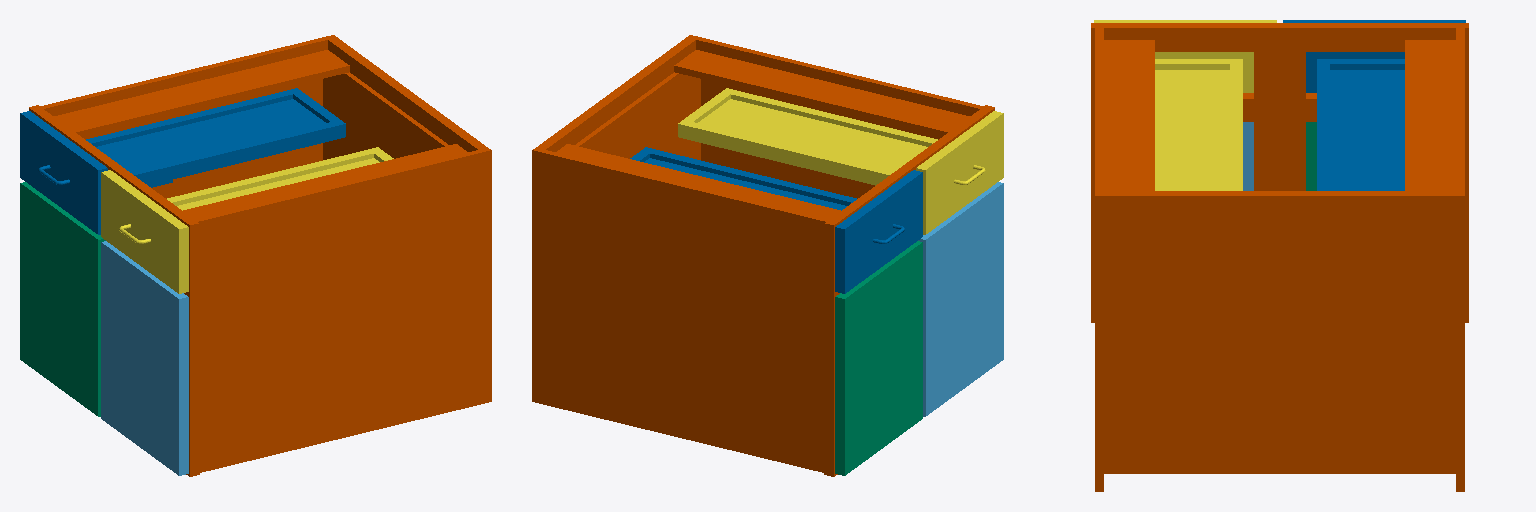
The robot description file, URDF, robot "partnet_190cb7264781df604da5feafe6f1c8fc":
<?xml version="1.0" ?>
<robot name="partnet_190cb7264781df604da5feafe6f1c8fc">
	<link name="base"/>
	<link name="link_0"><!-- x, y modified -->
		<visual name="cabinet_door_surface-25"><!-- x, y modified -->
			<origin xyz="-0.6681607803488558 0.5002580285072327 -0.4117648367332666"/>
			<geometry>
				<mesh filename="textured_objs/original-65.obj"/>
			</geometry>
		</visual>
		<!--visual name="handle-26">
			<origin xyz="-0.6681607803488558 0.5002580285072327 -0.4117648367332666"/>
			<geometry>
				<mesh filename="textured_objs/original-67.obj"/>
			</geometry>
		</visual>
		<visual name="handle-26">
			<origin xyz="-0.6681607803488558 0.5002580285072327 -0.4117648367332666"/>
			<geometry>
				<mesh filename="textured_objs/original-69.obj"/>
			</geometry>
		</visual>
		<visual name="handle-26">
			<origin xyz="-0.6681607803488558 0.5002580285072327 -0.4117648367332666"/>
			<geometry>
				<mesh filename="textured_objs/original-68.obj"/>
			</geometry>
		</visual-->
		<collision>
			<origin xyz="-0.6681607803488558 0.5002580285072327 -0.4117648367332666"/>
			<geometry>
				<mesh filename="textured_objs/original-65.obj"/>
			</geometry>
		</collision>
		<!--collision>
			<origin xyz="-0.6681607803488558 0.5002580285072327 -0.4117648367332666"/>
			<geometry>
				<mesh filename="textured_objs/original-67.obj"/>
			</geometry>
		</collision>
		<collision>
			<origin xyz="-0.6681607803488558 0.5002580285072327 -0.4117648367332666"/>
			<geometry>
				<mesh filename="textured_objs/original-69.obj"/>
			</geometry>
		</collision>
		<collision>
			<origin xyz="-0.6681607803488558 0.5002580285072327 -0.4117648367332666"/>
			<geometry>
				<mesh filename="textured_objs/original-68.obj"/>
			</geometry>
		</collision-->
	</link>
	<joint name="joint_0" type="fixed"><!-- x modified -->
		<origin xyz="0.3681607803488558 -0.5002580285072327 0.4117648367332666"/>
		<axis xyz="0 1 0"/>
		<child link="link_0"/>
		<parent link="link_4"/>
		<limit lower="-0.0" upper="1.5707963267948966"/>
	</joint>
	<link name="link_1"><!-- x, y modified-->
		<visual name="cabinet_door_surface-23"><!-- x modified-->
			<origin xyz="0.6813071306647132 0.5002580285072327 -0.40982595009476297"/>
			<geometry>
				<mesh filename="textured_objs/original-59.obj"/>
			</geometry>
		</visual>
		<!--visual name="handle-24">
			<origin xyz="0.6813071306647132 0.5002580285072327 -0.40982595009476297"/>
			<geometry>
				<mesh filename="textured_objs/original-61.obj"/>
			</geometry>
		</visual>
		<visual name="handle-24">
			<origin xyz="0.6813071306647132 0.5002580285072327 -0.40982595009476297"/>
			<geometry>
				<mesh filename="textured_objs/original-63.obj"/>
			</geometry>
		</visual>
		<visual name="handle-24">
			<origin xyz="0.6813071306647132 0.5002580285072327 -0.40982595009476297"/>
			<geometry>
				<mesh filename="textured_objs/original-62.obj"/>
			</geometry>
		</visual-->
		<collision>
			<origin xyz="0.6813071306647132 0.5002580285072327 -0.40982595009476297"/>
			<geometry>
				<mesh filename="textured_objs/original-59.obj"/>
			</geometry>
		</collision>
		<!--collision>
			<origin xyz="0.6813071306647132 0.5002580285072327 -0.40982595009476297"/>
			<geometry>
				<mesh filename="textured_objs/original-61.obj"/>
			</geometry>
		</collision>
		<collision>
			<origin xyz="0.6813071306647132 0.5002580285072327 -0.40982595009476297"/>
			<geometry>
				<mesh filename="textured_objs/original-63.obj"/>
			</geometry>
		</collision>
		<collision>
			<origin xyz="0.6813071306647132 0.5002580285072327 -0.40982595009476297"/>
			<geometry>
				<mesh filename="textured_objs/original-62.obj"/>
			</geometry>
		</collision-->
	</link>
	<joint name="joint_1" type="fixed">
		<origin xyz="-0.3813071306647132 -0.5002580285072327 0.40982595009476297"/>
		<axis xyz="0 -1 0"/>
		<child link="link_1"/>
		<parent link="link_4"/>
		<limit lower="0.0" upper="1.5707963267948966"/>
	</joint>
	<link name="link_2">
		<visual name="drawer_front-18"><!-- x, y modified -->
			<origin xyz="-0.3216367870406491 -0.4078478067291077 0.41649198532104537"/>
			<geometry>
				<mesh filename="textured_objs/original-29.obj"/>
			</geometry>
		</visual>
		<visual name="drawer_front-18"><!-- x, y modified -->
			<origin xyz="-0.3216367870406491 -0.4078478067291077 0.41649198532104537"/>
			<geometry>
				<mesh filename="textured_objs/original-37.obj"/>
			</geometry>
		</visual>
		<visual name="drawer_side-19"><!-- x, y modified -->
			<origin xyz="-0.3216367870406491 -0.4078478067291077 0.41649198532104537"/>
			<geometry>
				<mesh filename="textured_objs/original-33.obj"/>
			</geometry>
		</visual>
		<visual name="drawer_side-19"><!-- x, y modified -->
			<origin xyz="-0.3216367870406491 -0.4078478067291077 0.41649198532104537"/>
			<geometry>
				<mesh filename="textured_objs/original-35.obj"/>
			</geometry>
		</visual>
		<visual name="drawer_side-20"><!-- y modified -->
			<origin xyz="-0.3216367870406491 -0.4078478067291077 0.41649198532104537"/>
			<geometry>
				<mesh filename="textured_objs/original-28.obj"/>
			</geometry>
		</visual>
		<visual name="drawer_back-21"><!-- x, y modified -->
			<origin xyz="-0.3216367870406491 -0.4078478067291077 0.41649198532104537"/>
			<geometry>
				<mesh filename="textured_objs/original-34.obj"/>
			</geometry>
		</visual>
		<visual name="drawer_bottom-22"><!-- x modified -->
			<origin xyz="-0.3216367870406491 -0.4078478067291077 0.41649198532104537"/>
			<geometry>
				<mesh filename="textured_objs/original-32.obj"/>
			</geometry>
		</visual>
		<visual name="drawer_bottom-22"><!-- x modified -->
			<origin xyz="-0.3216367870406491 -0.4078478067291077 0.41649198532104537"/>
			<geometry>
				<mesh filename="textured_objs/original-31.obj"/>
			</geometry>
		</visual>
		<visual name="handle-17">
			<origin xyz="-0.3216367870406491 -0.4078478067291077 0.41649198532104537"/>
			<geometry>
				<mesh filename="textured_objs/handle-6.obj"/>
			</geometry>
		</visual>
		<collision>
			<origin xyz="-0.3216367870406491 -0.4078478067291077 0.41649198532104537"/>
			<geometry>
				<mesh filename="textured_objs/original-29.obj"/>
			</geometry>
		</collision>
		<collision>
			<origin xyz="-0.3216367870406491 -0.4078478067291077 0.41649198532104537"/>
			<geometry>
				<mesh filename="textured_objs/original-37.obj"/>
			</geometry>
		</collision>
		<collision>
			<origin xyz="-0.3216367870406491 -0.4078478067291077 0.41649198532104537"/>
			<geometry>
				<mesh filename="textured_objs/original-33.obj"/>
			</geometry>
		</collision>
		<collision>
			<origin xyz="-0.3216367870406491 -0.4078478067291077 0.41649198532104537"/>
			<geometry>
				<mesh filename="textured_objs/original-35.obj"/>
			</geometry>
		</collision>
		<collision>
			<origin xyz="-0.3216367870406491 -0.4078478067291077 0.41649198532104537"/>
			<geometry>
				<mesh filename="textured_objs/original-28.obj"/>
			</geometry>
		</collision>
		<collision>
			<origin xyz="-0.3216367870406491 -0.4078478067291077 0.41649198532104537"/>
			<geometry>
				<mesh filename="textured_objs/original-34.obj"/>
			</geometry>
		</collision>
		<collision>
			<origin xyz="-0.3216367870406491 -0.4078478067291077 0.41649198532104537"/>
			<geometry>
				<mesh filename="textured_objs/original-32.obj"/>
			</geometry>
		</collision>
		<collision>
			<origin xyz="-0.3216367870406491 -0.4078478067291077 0.41649198532104537"/>
			<geometry>
				<mesh filename="textured_objs/original-31.obj"/>
			</geometry>
		</collision>
		<collision>
			<origin xyz="-0.3216367870406491 -0.4078478067291077 0.41649198532104537"/>
			<geometry>
				<mesh filename="textured_objs/handle-6.obj"/>
			</geometry>
		</collision>
	</link>
	<joint name="joint_2" type="fixed">
		<origin xyz="0.3216367870406491 0.4078478067291077 -0.41649198532104537"/>
		<axis xyz="0 0 0.9999999999999999"/>
		<child link="link_2"/>
		<parent link="link_4"/>
		<limit lower="0" upper="0.6400000000000001"/>
	</joint>
	<link name="link_3"><!-- x, y modified -->
		<visual name="drawer_front-11"><!-- x, y modified -->
			<origin xyz="0.3642076777137352 -0.40596716406381594 0.41649198532104514"/>
			<geometry>
				<mesh filename="textured_objs/original-45.obj"/>
			</geometry>
		</visual>
		<visual name="drawer_front-11"><!-- x, y modified -->
			<origin xyz="0.3642076777137352 -0.40596716406381594 0.41649198532104514"/>
			<geometry>
				<mesh filename="textured_objs/original-53.obj"/>
			</geometry>
		</visual>
		<visual name="drawer_side-12"><!-- x, y modified -->
			<origin xyz="0.3642076777137352 -0.40596716406381594 0.41649198532104514"/>
			<geometry>
				<mesh filename="textured_objs/original-44.obj"/>
			</geometry>
		</visual>
		<visual name="drawer_side-13"><!-- y modified -->
			<origin xyz="0.3642076777137352 -0.40596716406381594 0.41649198532104514"/>
			<geometry>
				<mesh filename="textured_objs/original-49.obj"/>
			</geometry>
		</visual>
		<visual name="drawer_side-13"><!-- y modified -->
			<origin xyz="0.3642076777137352 -0.40596716406381594 0.41649198532104514"/>
			<geometry>
				<mesh filename="textured_objs/original-51.obj"/>
			</geometry>
		</visual>
		<visual name="drawer_back-14"><!-- x, y modified -->
			<origin xyz="0.3642076777137352 -0.40596716406381594 0.41649198532104514"/>
			<geometry>
				<mesh filename="textured_objs/original-50.obj"/>
			</geometry>
		</visual>
		<visual name="drawer_bottom-15"><!-- x modified-->
			<origin xyz="0.3642076777137352 -0.40596716406381594 0.41649198532104514"/>
			<geometry>
				<mesh filename="textured_objs/original-48.obj"/>
			</geometry>
		</visual>
		<visual name="drawer_bottom-15"><!-- x modified-->
			<origin xyz="0.3642076777137352 -0.40596716406381594 0.41649198532104514"/>
			<geometry>
				<mesh filename="textured_objs/original-47.obj"/>
			</geometry>
		</visual>
		<visual name="handle-10">
			<origin xyz="0.3642076777137352 -0.40596716406381594 0.41649198532104514"/>
			<geometry>
				<mesh filename="textured_objs/handle-5.obj"/>
			</geometry>
		</visual>
		<collision>
			<origin xyz="0.3642076777137352 -0.40596716406381594 0.41649198532104514"/>
			<geometry>
				<mesh filename="textured_objs/original-45.obj"/>
			</geometry>
		</collision>
		<collision>
			<origin xyz="0.3642076777137352 -0.40596716406381594 0.41649198532104514"/>
			<geometry>
				<mesh filename="textured_objs/original-53.obj"/>
			</geometry>
		</collision>
		<collision>
			<origin xyz="0.3642076777137352 -0.40596716406381594 0.41649198532104514"/>
			<geometry>
				<mesh filename="textured_objs/original-44.obj"/>
			</geometry>
		</collision>
		<collision>
			<origin xyz="0.3642076777137352 -0.40596716406381594 0.41649198532104514"/>
			<geometry>
				<mesh filename="textured_objs/original-49.obj"/>
			</geometry>
		</collision>
		<collision>
			<origin xyz="0.3642076777137352 -0.40596716406381594 0.41649198532104514"/>
			<geometry>
				<mesh filename="textured_objs/original-51.obj"/>
			</geometry>
		</collision>
		<collision>
			<origin xyz="0.3642076777137352 -0.40596716406381594 0.41649198532104514"/>
			<geometry>
				<mesh filename="textured_objs/original-50.obj"/>
			</geometry>
		</collision>
		<collision>
			<origin xyz="0.3642076777137352 -0.40596716406381594 0.41649198532104514"/>
			<geometry>
				<mesh filename="textured_objs/original-48.obj"/>
			</geometry>
		</collision>
		<collision>
			<origin xyz="0.3642076777137352 -0.40596716406381594 0.41649198532104514"/>
			<geometry>
				<mesh filename="textured_objs/original-47.obj"/>
			</geometry>
		</collision>
		<collision>
			<origin xyz="0.3642076777137352 -0.40596716406381594 0.41649198532104514"/>
			<geometry>
				<mesh filename="textured_objs/handle-5.obj"/>
			</geometry>
		</collision>
	</link>
	<joint name="joint_3" type="fixed">
		<origin xyz="-0.3642076777137352 0.40596716406381594 -0.41649198532104514"/>
		<axis xyz="0 0 0.9999999999999999"/>
		<child link="link_3"/>
		<parent link="link_4"/>
		<limit lower="0" upper="0.6400000000000001"/>
	</joint>
	<link name="link_4">
		<visual name="shelf-4"><!-- x, y modified -->
			<origin xyz="0 0 0"/>
			<geometry>
				<mesh filename="textured_objs/original-25.obj"/>
			</geometry>
		</visual>
		<visual name="other_leaf-40"><!-- x, y modified -->
			<origin xyz="0 0 0"/>
			<geometry>
				<mesh filename="textured_objs/original-70.obj"/>
			</geometry>
		</visual>
		<visual name="vertical_side_panel-31"><!-- x, y modified -->
			<origin xyz="0 0 0"/>
			<geometry>
				<mesh filename="textured_objs/original-12.obj"/>
			</geometry>
		</visual>
		<visual name="vertical_side_panel-31"><!-- x, y modified -->
			<origin xyz="0 0 0"/>
			<geometry>
				<mesh filename="textured_objs/original-11.obj"/>
			</geometry>
		</visual>
		<visual name="vertical_side_panel-32"><!-- x, y modified -->
			<origin xyz="0 0 0"/>
			<geometry>
				<mesh filename="textured_objs/original-16.obj"/>
			</geometry>
		</visual>
		<visual name="vertical_side_panel-32"><!-- x, y modified -->
			<origin xyz="0 0 0"/>
			<geometry>
				<mesh filename="textured_objs/original-15.obj"/>
			</geometry>
		</visual>
		<visual name="vertical_front_panel-33"><!-- y modified -->
			<origin xyz="0 0 0"/>
			<geometry>
				<mesh filename="textured_objs/original-18.obj"/>
			</geometry>
		</visual>
		<visual name="vertical_front_panel-33"><!-- x modified -->
			<origin xyz="0 0 0"/>
			<geometry>
				<mesh filename="textured_objs/original-19.obj"/>
			</geometry>
		</visual>
		<visual name="vertical_front_panel-33"><!-- y modified -->
			<origin xyz="0 0 0"/>
			<geometry>
				<mesh filename="textured_objs/original-24.obj"/>
			</geometry>
		</visual>
		<visual name="vertical_front_panel-33"><!-- x, y modified -->
			<origin xyz="0 0 0"/>
			<geometry>
				<mesh filename="textured_objs/original-7.obj"/>
			</geometry>
		</visual>
		<visual name="vertical_front_panel-33"><!-- x, y modified -->
			<origin xyz="0 0 0"/>
			<geometry>
				<mesh filename="textured_objs/original-8.obj"/>
			</geometry>
		</visual>
		<visual name="vertical_front_panel-33"><!-- x, y modified -->
			<origin xyz="0 0 0"/>
			<geometry>
				<mesh filename="textured_objs/original-4.obj"/>
			</geometry>
		</visual>
		<visual name="vertical_front_panel-33"><!-- x, y modified -->
			<origin xyz="0 0 0"/>
			<geometry>
				<mesh filename="textured_objs/original-9.obj"/>
			</geometry>
		</visual>
		<visual name="back_panel-34"><!-- x, y modified -->
			<origin xyz="0 0 0"/>
			<geometry>
				<mesh filename="textured_objs/original-6.obj"/>
			</geometry>
		</visual>
		<visual name="back_panel-34"><!-- x, y modified -->
			<origin xyz="0 0 0"/>
			<geometry>
				<mesh filename="textured_objs/original-5.obj"/>
			</geometry>
		</visual>
		<visual name="bottom_panel-35"><!-- x, y modified -->
			<origin xyz="0 0 0"/>
			<geometry>
				<mesh filename="textured_objs/original-3.obj"/>
			</geometry>
		</visual>
		<visual name="frame_horizontal_bar-36"><!-- x, y modified -->
			<origin xyz="0 0 0"/>
			<geometry>
				<mesh filename="textured_objs/original-23.obj"/>
			</geometry>
		</visual>
		<visual name="frame_horizontal_bar-37"><!-- x, y modified -->
			<origin xyz="0 0 0"/>
			<geometry>
				<mesh filename="textured_objs/original-22.obj"/>
			</geometry>
		</visual>
		<!--visual name="base_side_panel-28">
			<origin xyz="0 0 0"/>
			<geometry>
				<mesh filename="textured_objs/original-13.obj"/>
			</geometry>
		</visual>
		<visual name="base_side_panel-29">
			<origin xyz="0 0 0"/>
			<geometry>
				<mesh filename="textured_objs/original-17.obj"/>
			</geometry>
		</visual>
		<visual name="base_side_panel-30">
			<origin xyz="0 0 0"/>
			<geometry>
				<mesh filename="textured_objs/original-21.obj"/>
			</geometry>
		</visual>
		<visual name="base_side_panel-38">
			<origin xyz="0 0 0"/>
			<geometry>
				<mesh filename="textured_objs/original-20.obj"/>
			</geometry>
		</visual-->
		<collision>
			<origin xyz="0 0 0"/>
			<geometry>
				<mesh filename="textured_objs/original-25.obj"/>
			</geometry>
		</collision>
		<collision>
			<origin xyz="0 0 0"/>
			<geometry>
				<mesh filename="textured_objs/original-70.obj"/>
			</geometry>
		</collision>
		<collision>
			<origin xyz="0 0 0"/>
			<geometry>
				<mesh filename="textured_objs/original-12.obj"/>
			</geometry>
		</collision>
		<collision>
			<origin xyz="0 0 0"/>
			<geometry>
				<mesh filename="textured_objs/original-11.obj"/>
			</geometry>
		</collision>
		<collision>
			<origin xyz="0 0 0"/>
			<geometry>
				<mesh filename="textured_objs/original-16.obj"/>
			</geometry>
		</collision>
		<collision>
			<origin xyz="0 0 0"/>
			<geometry>
				<mesh filename="textured_objs/original-15.obj"/>
			</geometry>
		</collision>
		<collision>
			<origin xyz="0 0 0"/>
			<geometry>
				<mesh filename="textured_objs/original-18.obj"/>
			</geometry>
		</collision>
		<collision>
			<origin xyz="0 0 0"/>
			<geometry>
				<mesh filename="textured_objs/original-19.obj"/>
			</geometry>
		</collision>
		<collision>
			<origin xyz="0 0 0"/>
			<geometry>
				<mesh filename="textured_objs/original-24.obj"/>
			</geometry>
		</collision>
		<collision>
			<origin xyz="0 0 0"/>
			<geometry>
				<mesh filename="textured_objs/original-7.obj"/>
			</geometry>
		</collision>
		<collision>
			<origin xyz="0 0 0"/>
			<geometry>
				<mesh filename="textured_objs/original-8.obj"/>
			</geometry>
		</collision>
		<collision>
			<origin xyz="0 0 0"/>
			<geometry>
				<mesh filename="textured_objs/original-4.obj"/>
			</geometry>
		</collision>
		<collision>
			<origin xyz="0 0 0"/>
			<geometry>
				<mesh filename="textured_objs/original-9.obj"/>
			</geometry>
		</collision>
		<collision>
			<origin xyz="0 0 0"/>
			<geometry>
				<mesh filename="textured_objs/original-6.obj"/>
			</geometry>
		</collision>
		<collision>
			<origin xyz="0 0 0"/>
			<geometry>
				<mesh filename="textured_objs/original-5.obj"/>
			</geometry>
		</collision>
		<collision>
			<origin xyz="0 0 0"/>
			<geometry>
				<mesh filename="textured_objs/original-3.obj"/>
			</geometry>
		</collision>
		<collision>
			<origin xyz="0 0 0"/>
			<geometry>
				<mesh filename="textured_objs/original-23.obj"/>
			</geometry>
		</collision>
		<collision>
			<origin xyz="0 0 0"/>
			<geometry>
				<mesh filename="textured_objs/original-22.obj"/>
			</geometry>
		</collision>
		<!--collision>
			<origin xyz="0 0 0"/>
			<geometry>
				<mesh filename="textured_objs/original-13.obj"/>
			</geometry>
		</collision>
		<collision>
			<origin xyz="0 0 0"/>
			<geometry>
				<mesh filename="textured_objs/original-17.obj"/>
			</geometry>
		</collision>
		<collision>
			<origin xyz="0 0 0"/>
			<geometry>
				<mesh filename="textured_objs/original-21.obj"/>
			</geometry>
		</collision>
		<collision>
			<origin xyz="0 0 0"/>
			<geometry>
				<mesh filename="textured_objs/original-20.obj"/>
			</geometry>
		</collision-->
	</link>
	<joint name="joint_4" type="fixed">
		<origin rpy="1.570796326794897 0 -1.570796326794897" xyz="0 0 0"/>
		<child link="link_4"/>
		<parent link="base"/>
	</joint>
</robot>

--- Render facts (derived) ---
The picture shows the robot from 3 angles, left to right: view 1: azimuth 30°, elevation 25°; view 2: azimuth 150°, elevation 25°; view 3: azimuth 270°, elevation 25°; orthographic projection.
Model partnet_190cb7264781df604da5feafe6f1c8fc with 6 links and 5 joints (5 fixed), rooted at base, posed every joint at zero.
Links seen in each view (by area): view 1: link_4, link_3, link_0, link_1, link_2; view 2: link_4, link_2, link_1, link_0, link_3; view 3: link_4, link_2, link_3, link_0, link_1.
Boxes of the visible links, x1,y1,x2,y2 form: link_4: (29,35,491,476); link_3: (20,88,345,234); link_0: (101,241,188,475); link_1: (20,182,105,416); link_2: (101,147,393,293); link_4: (532,35,994,476); link_2: (678,88,1003,234); link_1: (835,241,922,475); link_0: (918,182,1003,416); link_3: (630,147,922,293); link_4: (1091,23,1468,491); link_2: (1094,20,1276,190); link_3: (1283,20,1465,190); link_0: (1243,122,1253,190); link_1: (1306,122,1316,190).
Size in the robot's own frame: 0.9151 by 0.7868 by 0.6767 metres.
38 mesh visuals loaded from 38 distinct referenced files (38 OBJ).